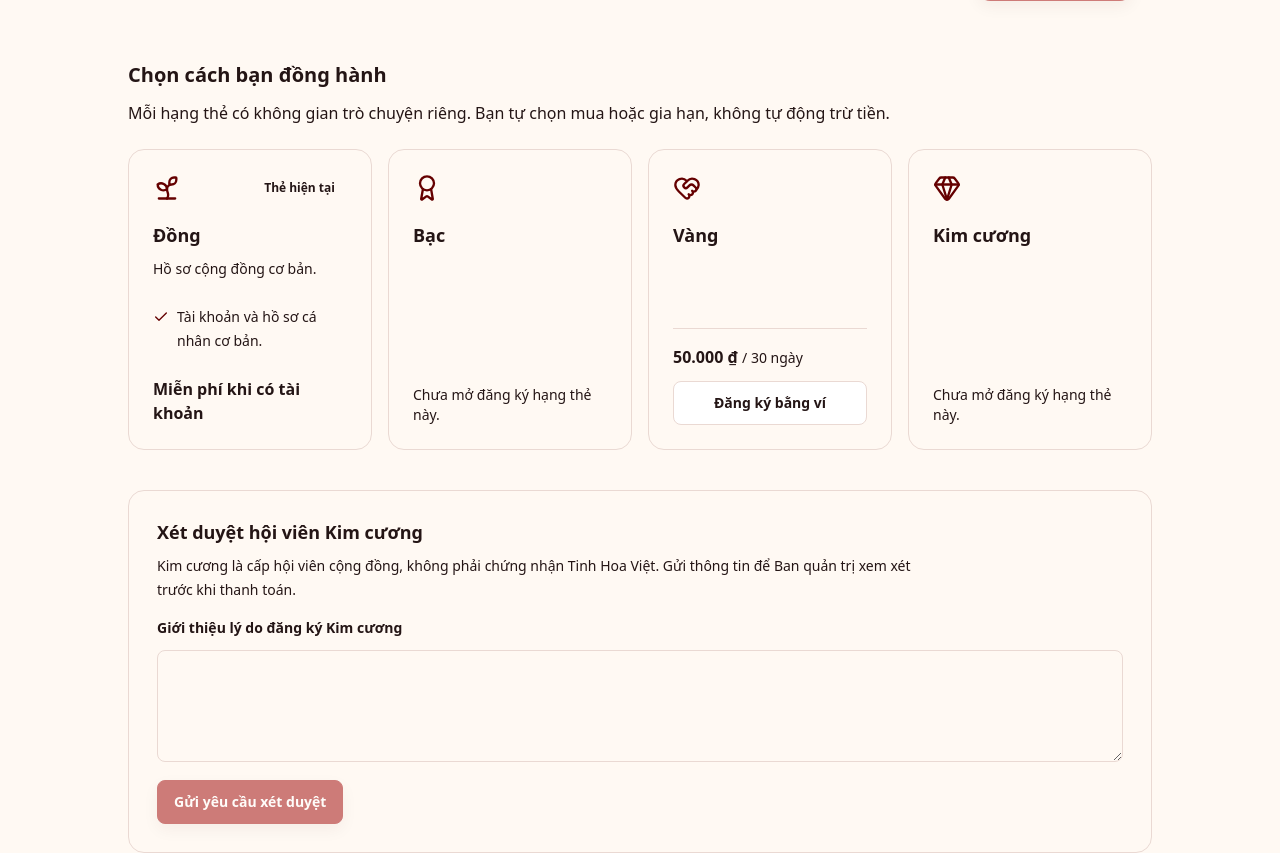
membership purchase › shows the shortfall and blocks confirmation when the wallet is insufficient
The image size is (1280, 853).
(page scrolled)
Click the button "Đăng ký bằng ví" at (770, 403), box [673, 381, 867, 425]
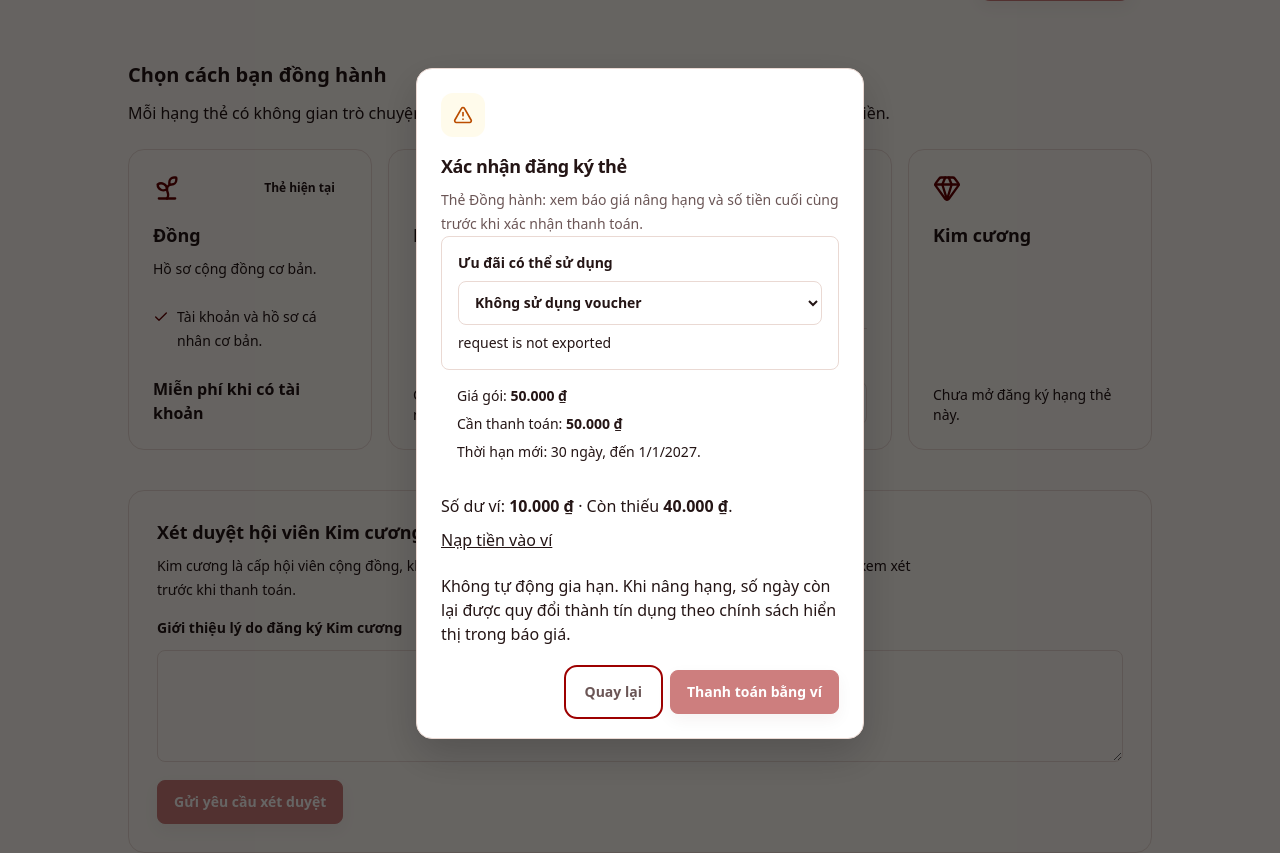
Result: the link "Nạp tiền vào ví" is shown at [441, 528, 552, 550]
Result: the button "Thanh toán bằng ví" is disabled at [670, 670, 839, 714]
